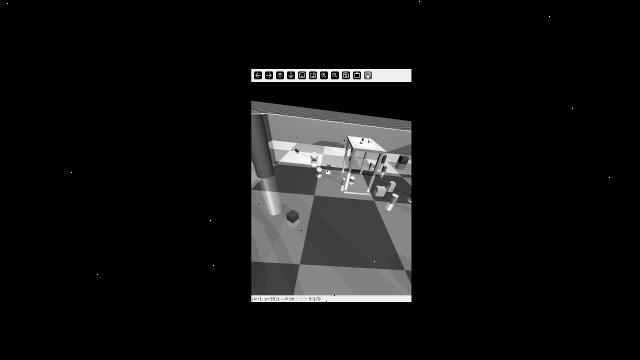cilindro: (251, 112, 280, 178), (389, 192, 400, 205), (383, 154, 389, 163), (341, 177, 346, 186), (382, 165, 388, 172), (294, 148, 299, 153), (362, 137, 364, 141)
cuadrado: (285, 208, 301, 221), (397, 153, 410, 164), (375, 184, 386, 194), (387, 180, 397, 187), (325, 163, 335, 170), (368, 139, 373, 143)
esfera: (309, 150, 321, 162), (316, 166, 323, 173), (348, 176, 357, 181), (359, 141, 363, 144)
rectangulo: (369, 161, 377, 168)
